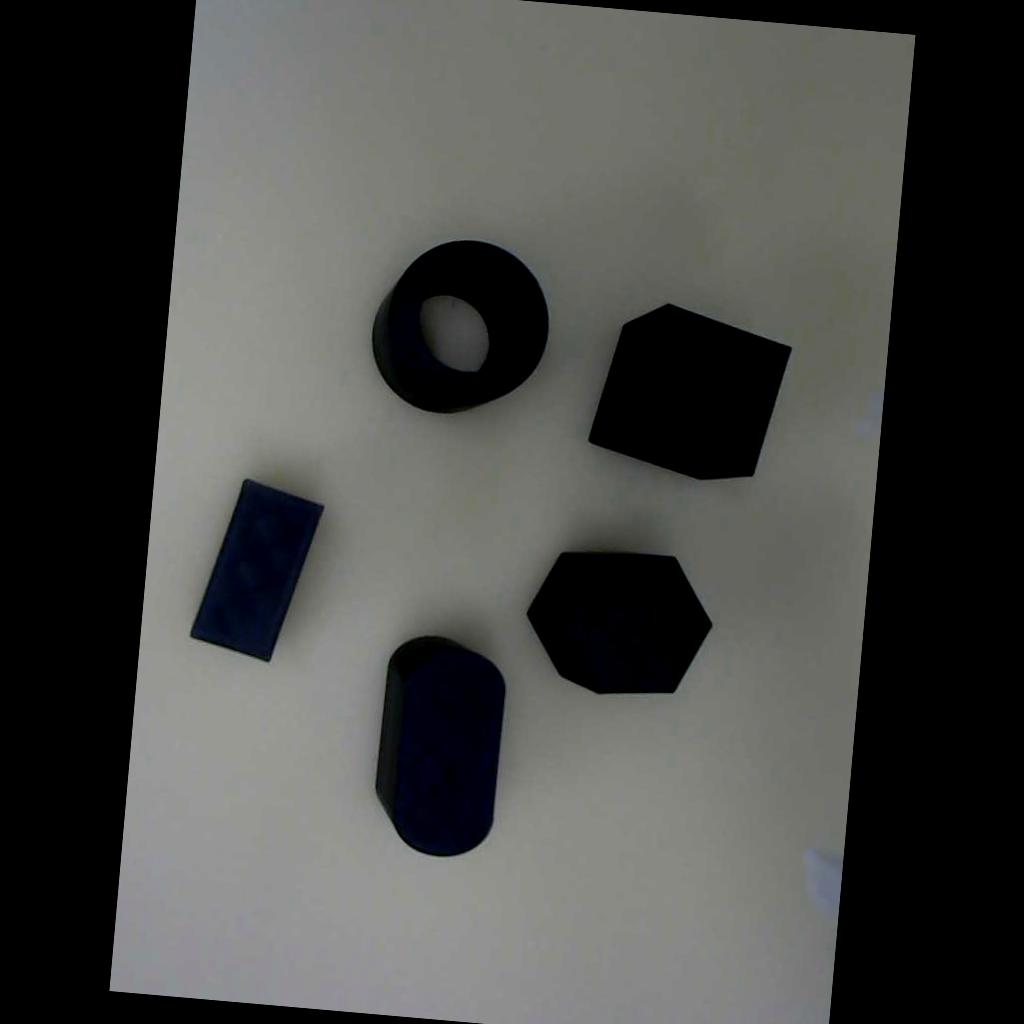hexagon: (515, 539, 720, 711)
oval: (364, 624, 512, 862)
rectangle: (178, 464, 337, 676)
ring: (350, 216, 567, 436)
square: (566, 267, 811, 511)
